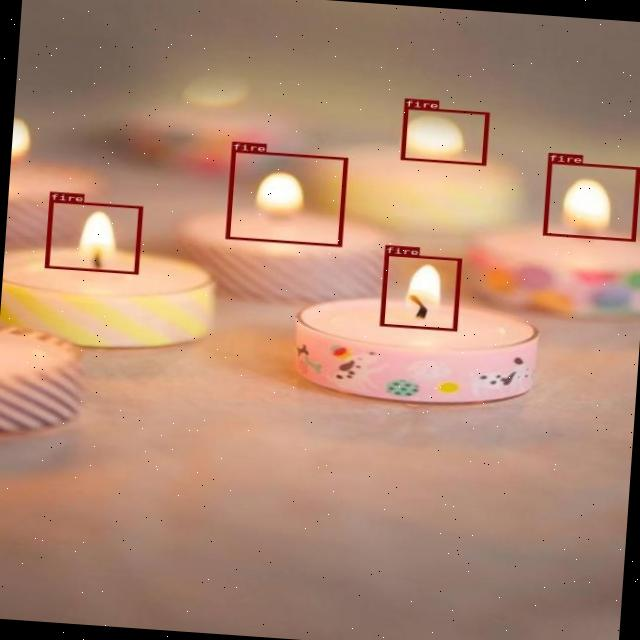fire: (225, 150, 346, 246), (542, 160, 638, 240), (44, 200, 140, 274), (380, 253, 460, 330), (400, 106, 488, 165)
